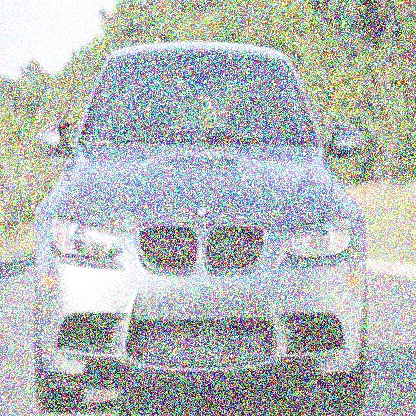Vehicle: (31, 40, 371, 414)
